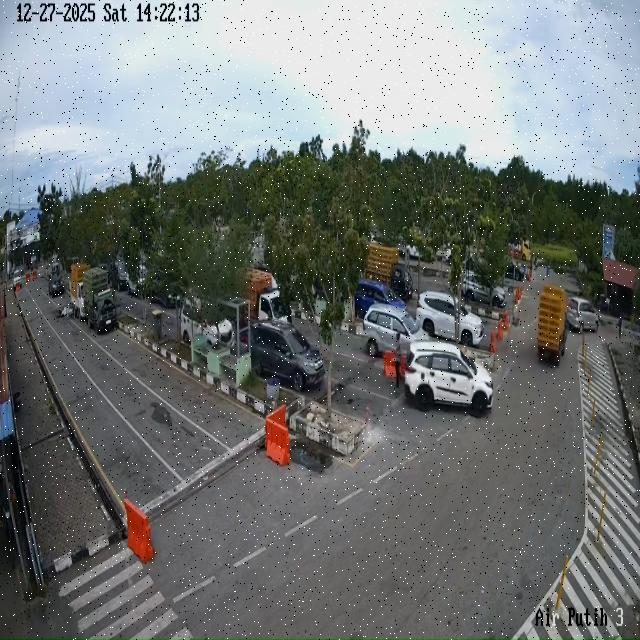Golongan IVA: (404, 342, 494, 416), (250, 321, 324, 392), (416, 291, 484, 347), (363, 304, 430, 357), (180, 299, 235, 347), (354, 279, 406, 320), (462, 271, 506, 309), (566, 297, 600, 334), (48, 272, 65, 298)
Golongan IVB: (364, 243, 414, 299), (244, 268, 289, 324), (537, 285, 567, 366), (83, 267, 116, 334), (70, 263, 90, 320)
